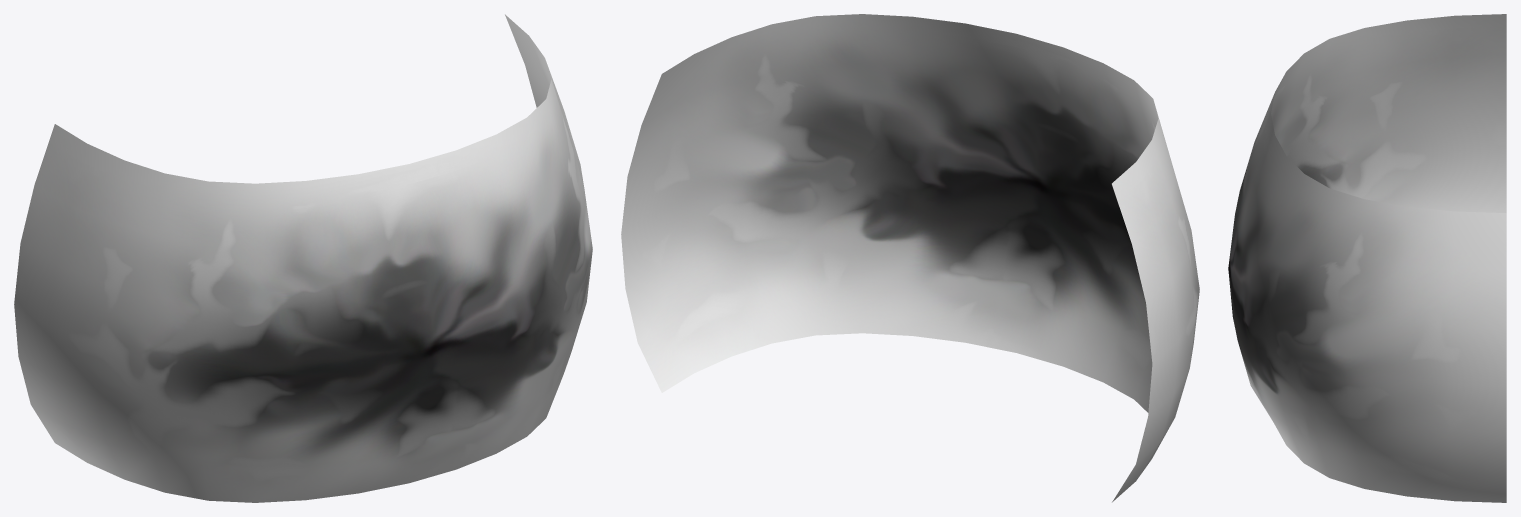
The picture shows the model from 3 angles, left to right: view 1: azimuth 30°, elevation 25°; view 2: azimuth 150°, elevation 25°; view 3: azimuth 270°, elevation 25°; orthographic projection. The views are drawn at different scales.
Parts seen in each view (by area): view 1: Mesh_Ui_Sphere_002; view 2: Mesh_Ui_Sphere_002; view 3: Mesh_Ui_Sphere_002.
Boxes of the visible parts, x1,y1,x2,y2 form: Mesh_Ui_Sphere_002: (14, 14, 592, 502); Mesh_Ui_Sphere_002: (621, 14, 1199, 502); Mesh_Ui_Sphere_002: (1228, 14, 1506, 502).
Bounding box in the file's own units: 38.24 × 21.96 × 19.12.
